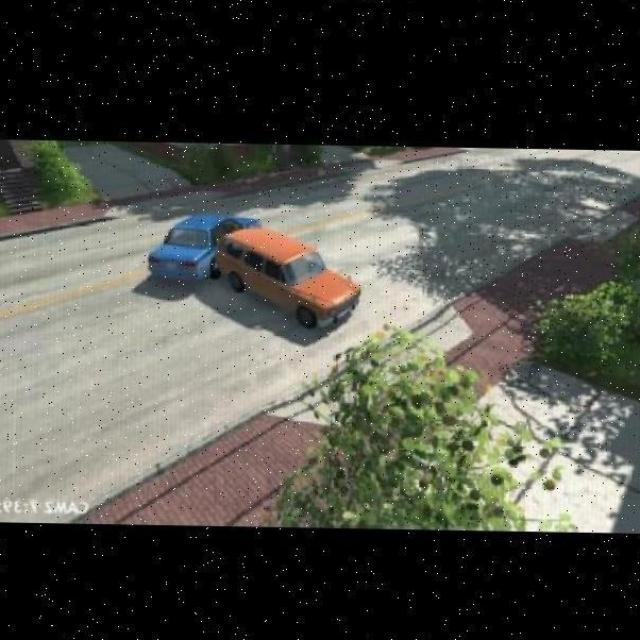accident: (145, 201, 362, 329)
